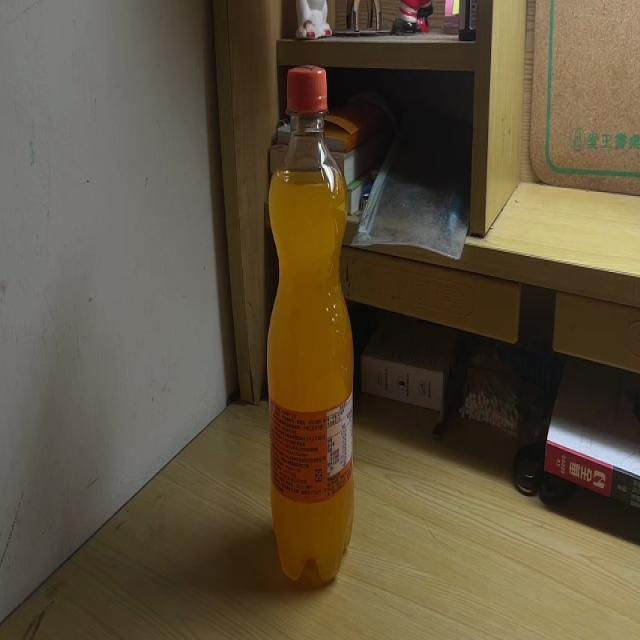Fanta: (268, 64, 354, 583)
